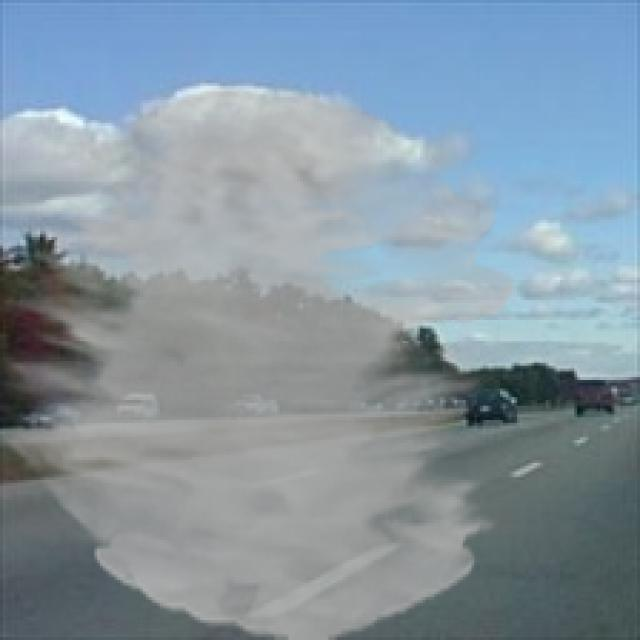smoke: (0, 86, 517, 637)
